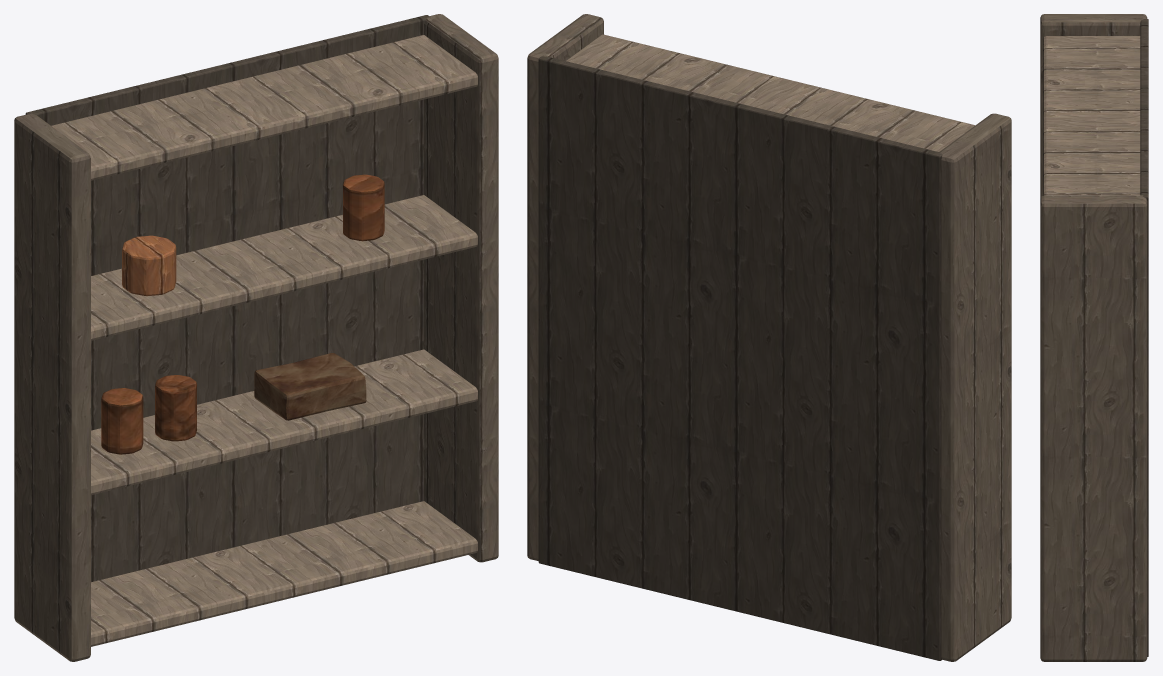
Rendered from shelf__plank_mushroom.glb.
The picture shows the model from 3 angles, left to right: view 1: azimuth 30°, elevation 25°; view 2: azimuth 150°, elevation 25°; view 3: azimuth 270°, elevation 25°; orthographic projection. The views are drawn at different scales.
Parts seen in each view (by area): view 1: model; view 2: model; view 3: model.
Boxes of the visible parts, x1,y1,x2,y2 form: model: [14, 14, 498, 661]; model: [527, 14, 1011, 661]; model: [1040, 14, 1148, 661].
Size of the model in its own units: 1.6 by 1.8 by 0.385.
Materials: 6 (6 with a texture image).
